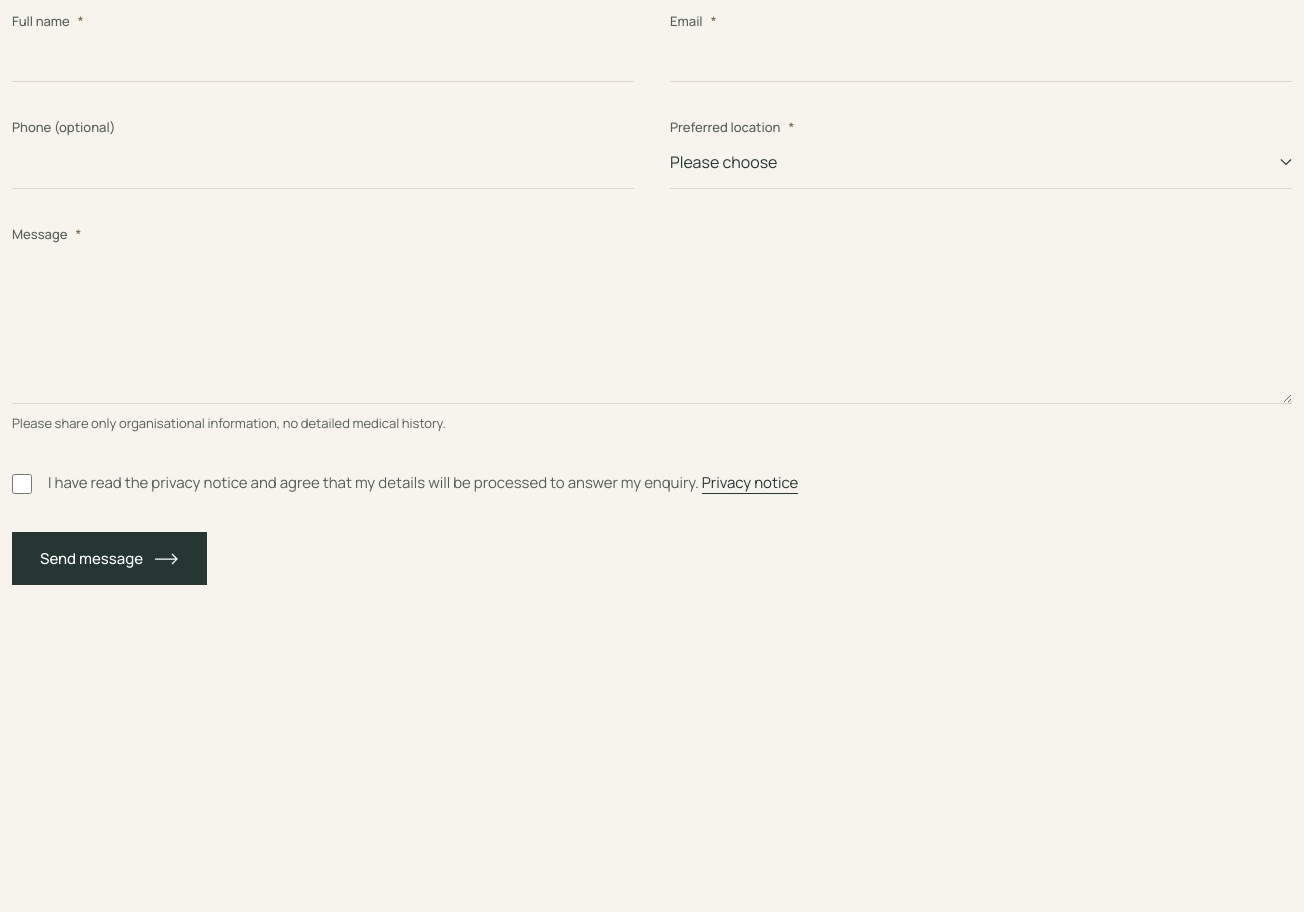
Scenario: ContactForm › shows accessible, translated validation errors
What coordinates should you click on to do the following:
click the button "Send message"
I would click on:
 (110, 559)
Its box is [12,532,207,585].
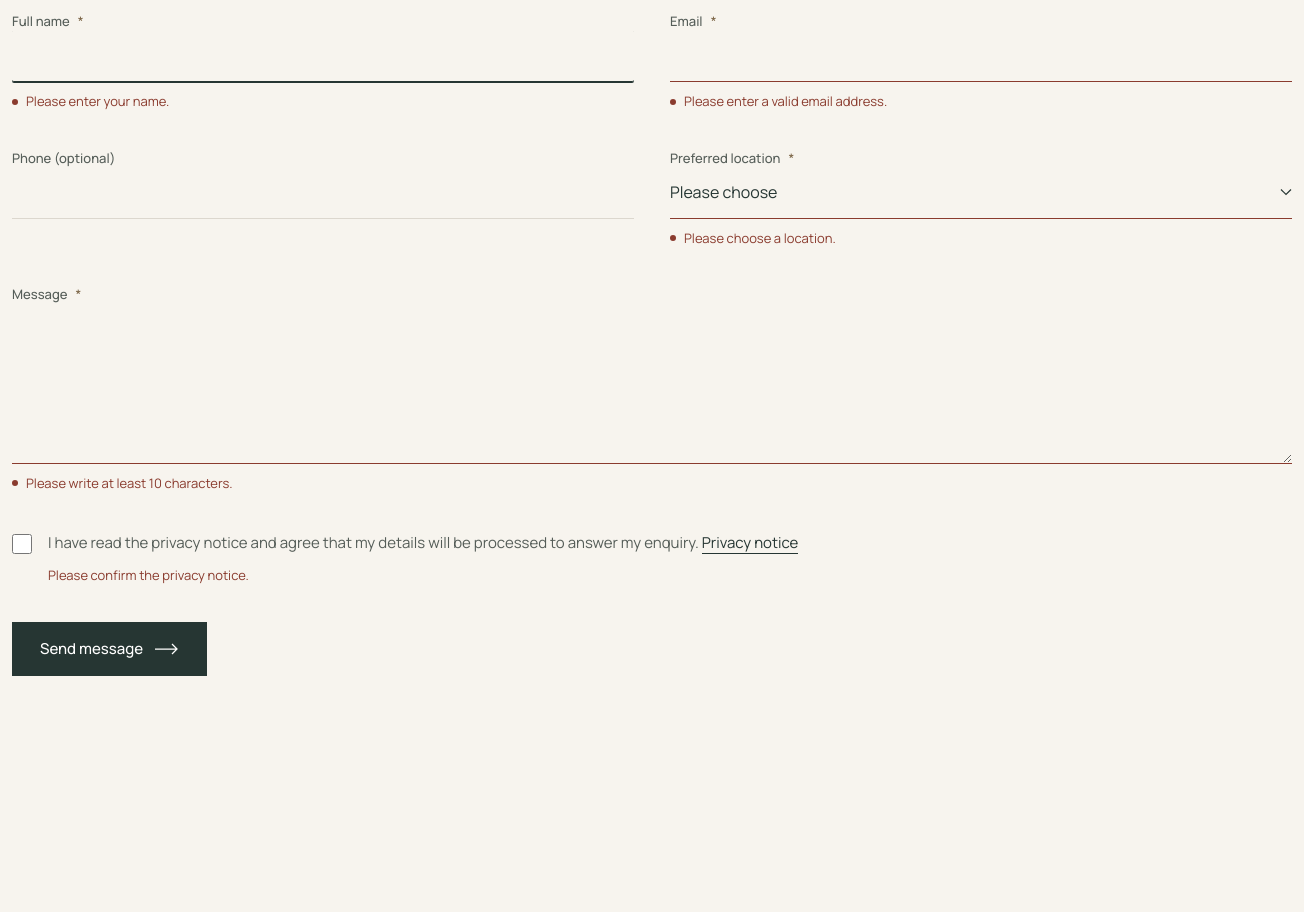
expect the text "Please enter your name." is shown: met, box [12,92,169,110]
expect the text "Please confirm the privacy notice." is shown: met, box [48,566,249,584]
